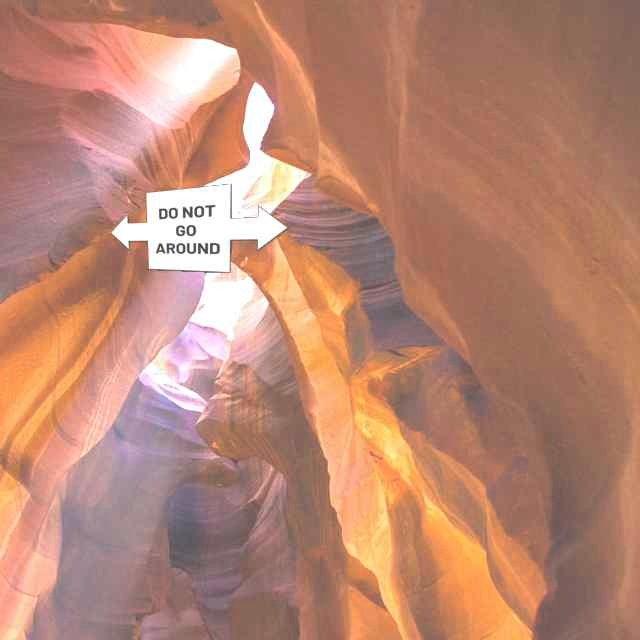DO_NOT_GO_AROUND: (110, 183, 289, 273)
